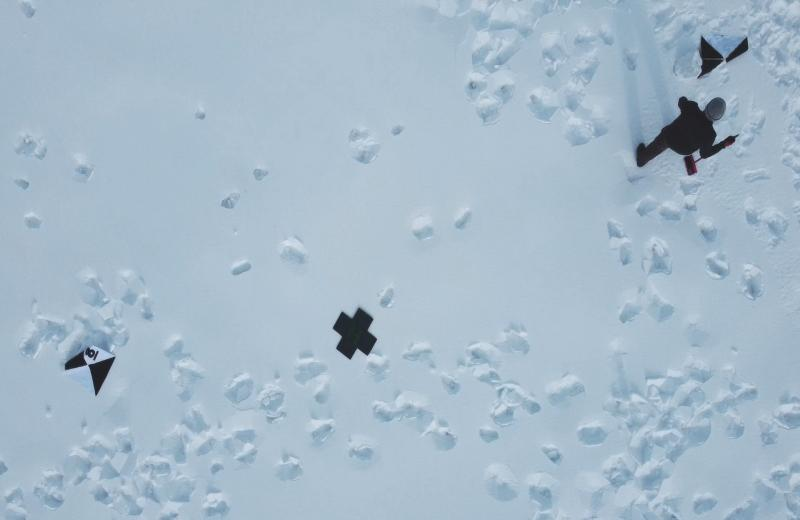Cross: (333, 305, 377, 360)
